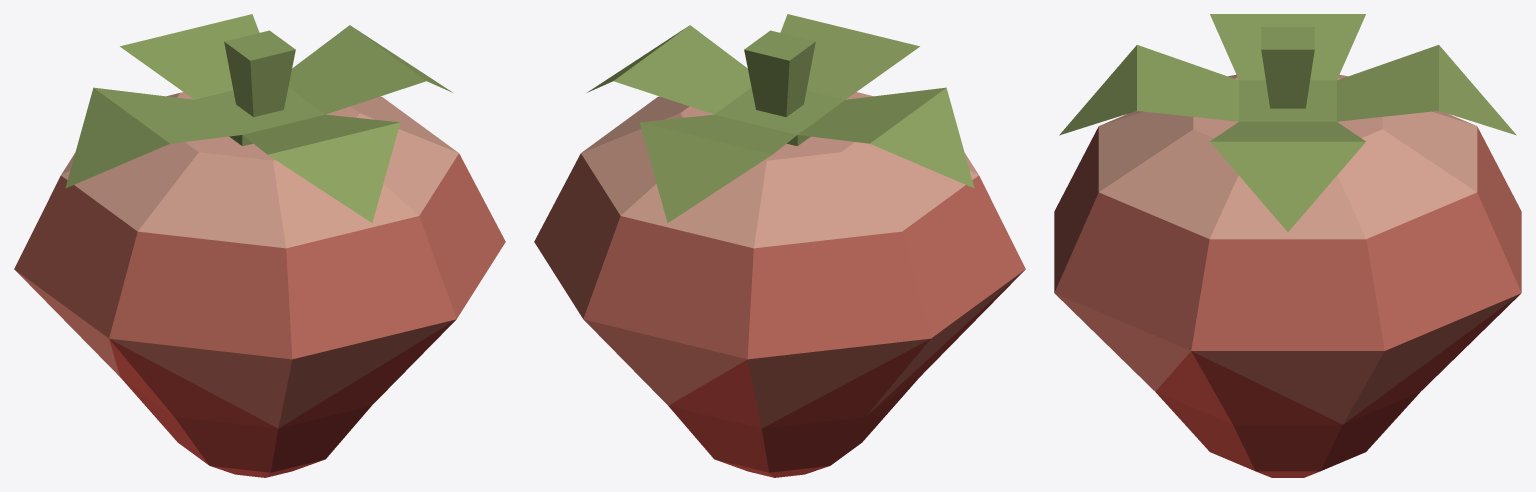
File: strawberry.glb
3 views of the same model, side by side, from view 1: azimuth 30°, elevation 25°; view 2: azimuth 150°, elevation 25°; view 3: azimuth 270°, elevation 25° (orthographic).
Bounding box in the file's own units: 1 × 1 × 1.
